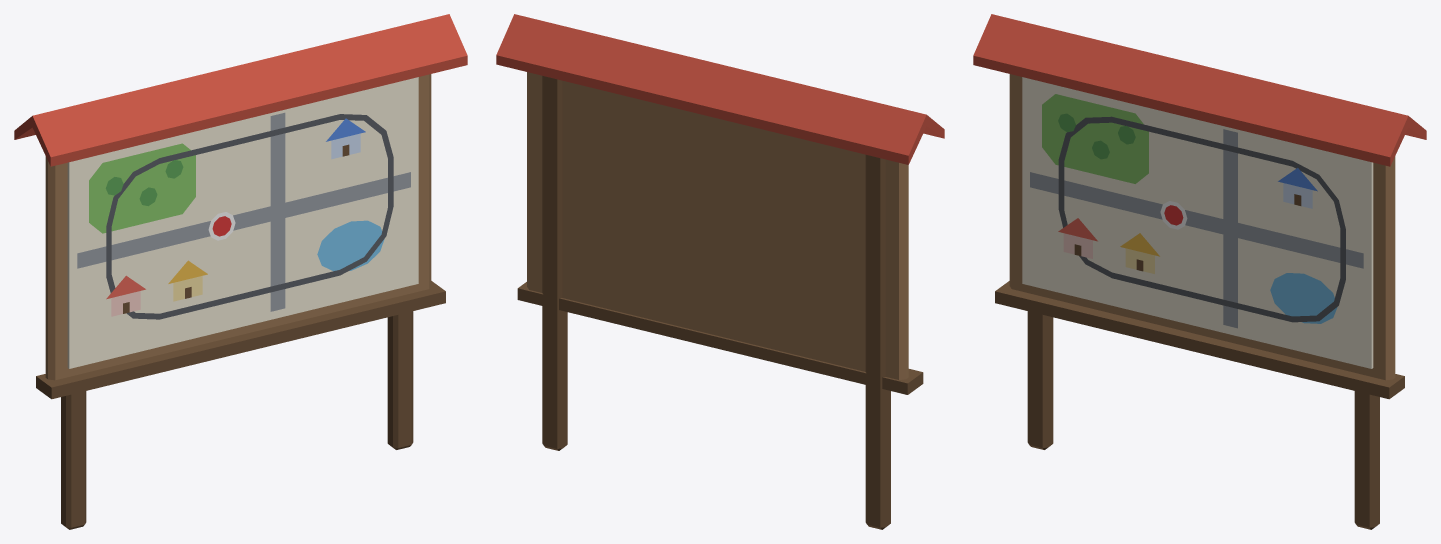
The model's file is record-town-board.glb.
3 renders of one model, left to right at view 1: azimuth 30°, elevation 25°; view 2: azimuth 150°, elevation 25°; view 3: azimuth 330°, elevation 25°, orthographic.
Parts seen in each view (by area): view 1: record-town-board; view 2: record-town-board; view 3: record-town-board.
Part boxes in pixels (left/top/right/bottom): record-town-board: left=14, top=14, right=467, bottom=529; record-town-board: left=496, top=14, right=944, bottom=529; record-town-board: left=973, top=14, right=1426, bottom=529.
Size of the model in its own units: 3.7 by 3.6 by 0.56.
